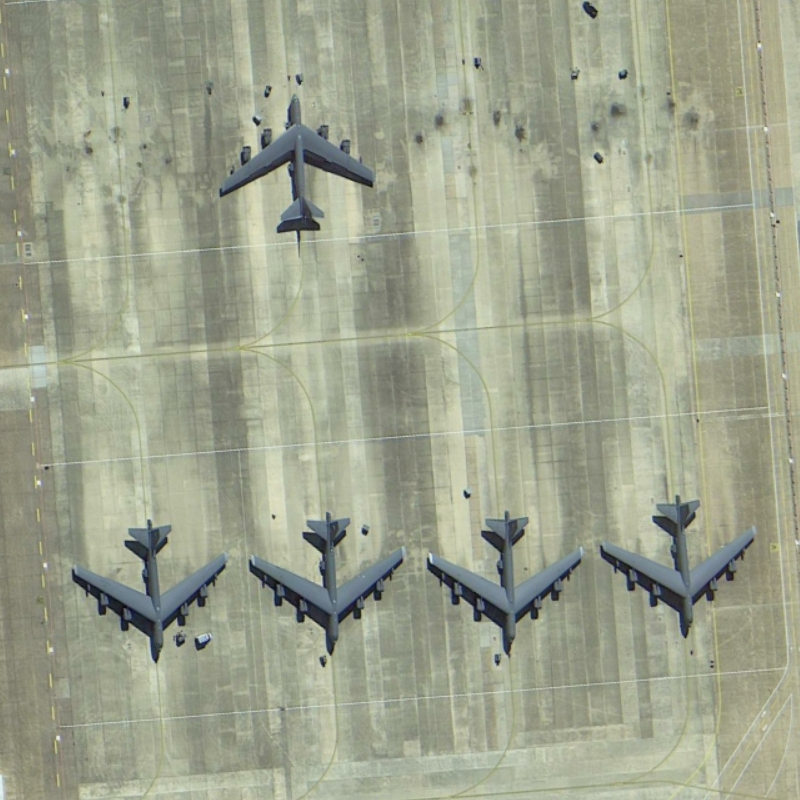A8: (62, 508, 232, 668), (240, 503, 416, 656), (421, 505, 591, 658), (597, 486, 762, 643), (213, 91, 383, 235)
